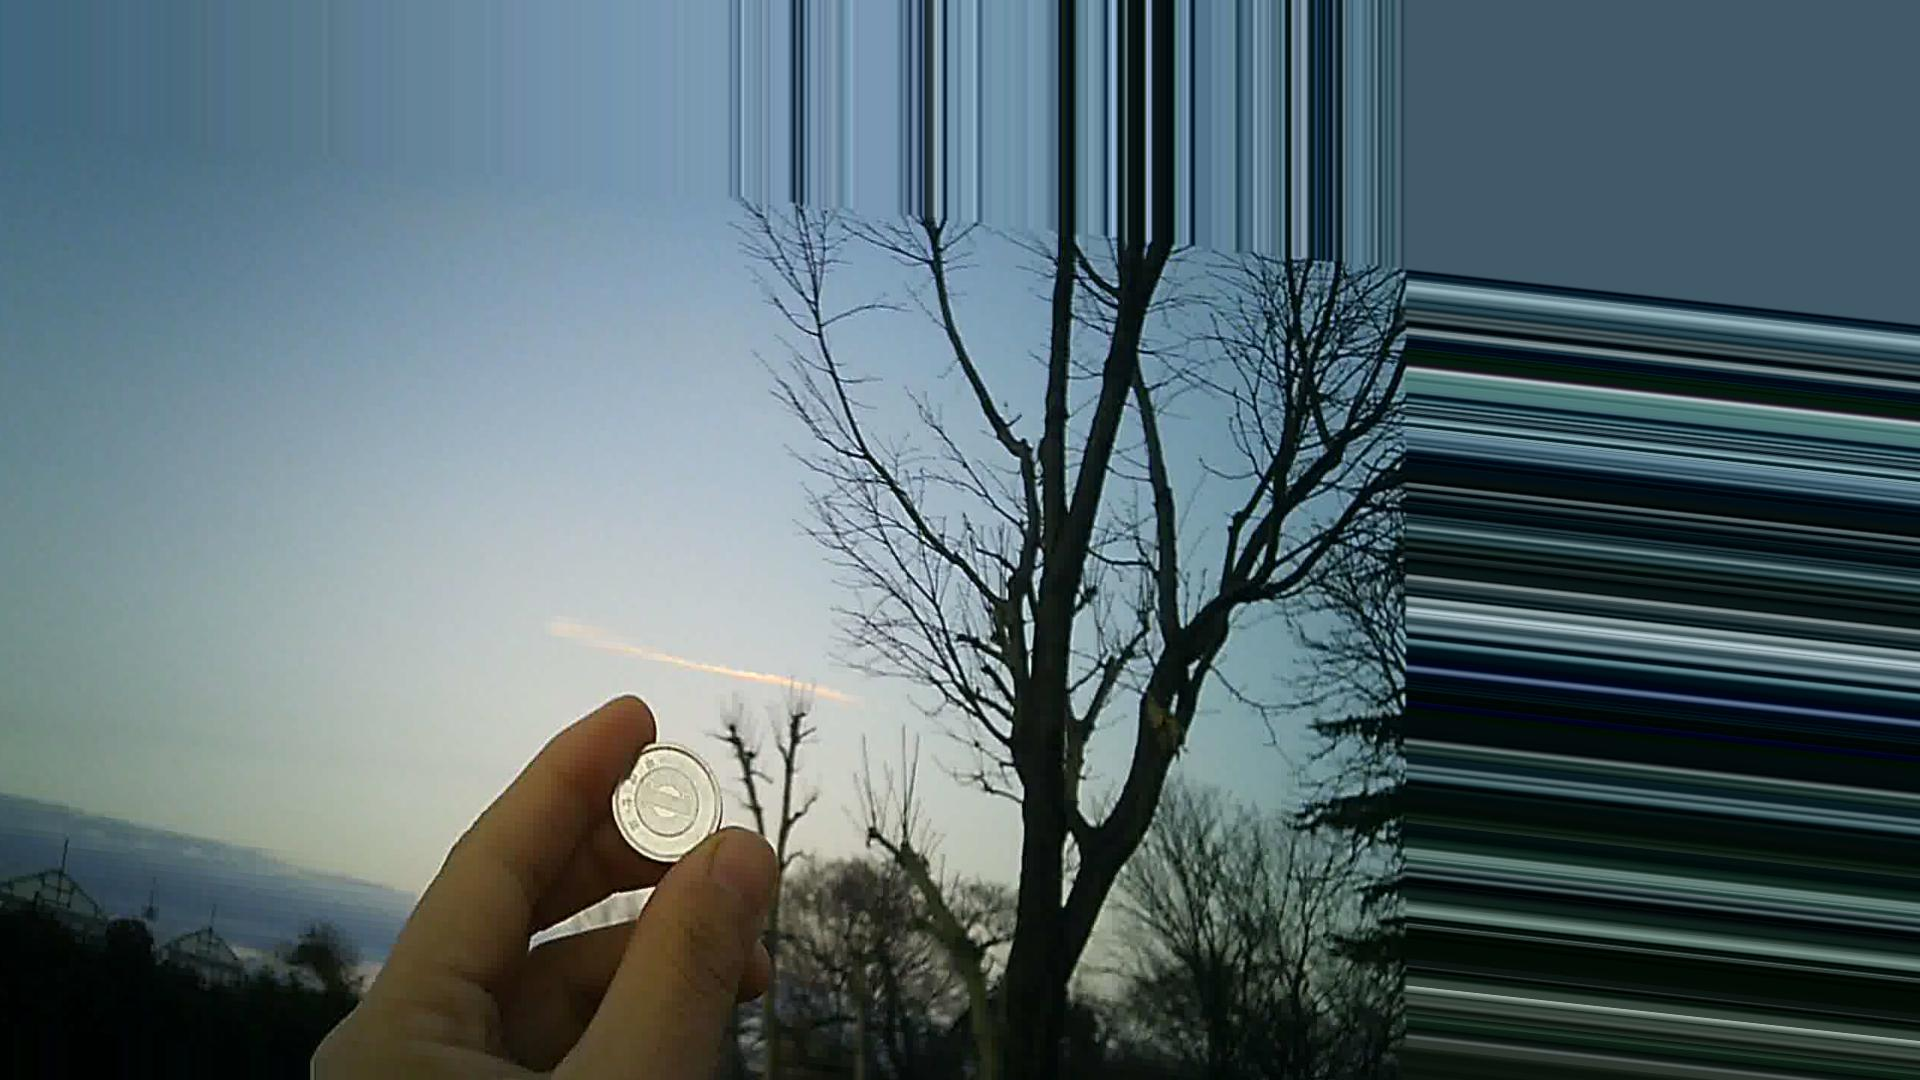1 Yen: (591, 737, 760, 858)
